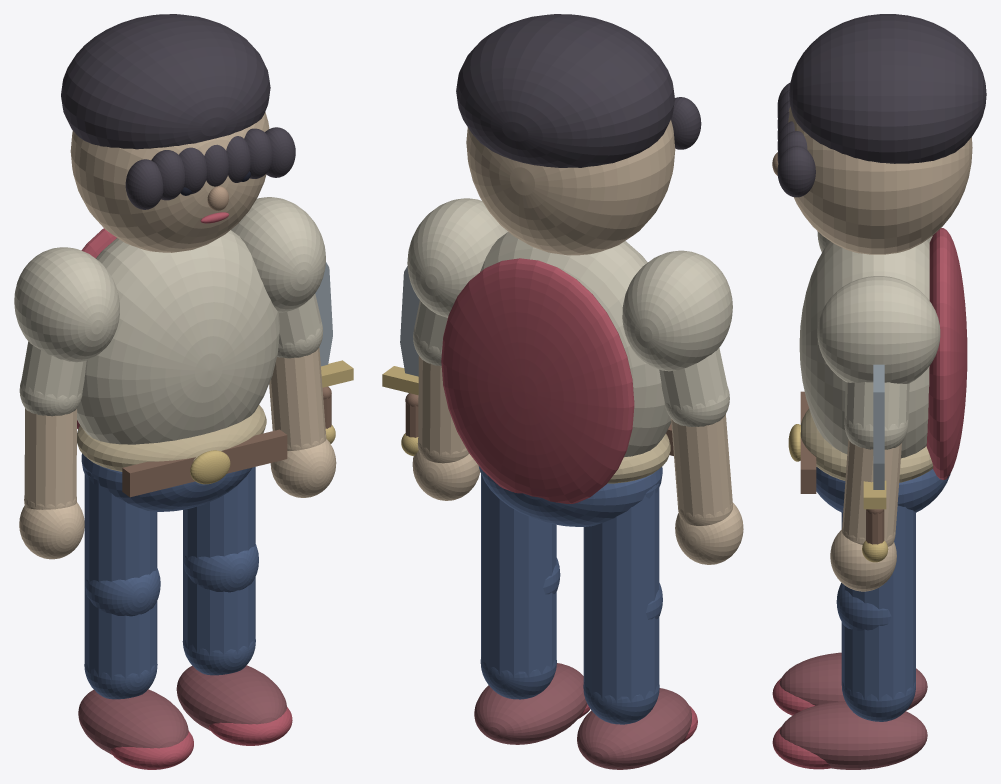
The model's file is character_hollow_knight.glb.
3 renders of one model, left to right at view 1: azimuth 30°, elevation 25°; view 2: azimuth 150°, elevation 25°; view 3: azimuth 270°, elevation 25°, orthographic. The views are drawn at different scales.
Parts seen in each view (by area): view 1: shirt_torso, hair_cap, head, trouser_-1_shaft, sleeve_-1, trouser_1_shaft, sleeve_1, boot_-1, boot_1, forearm_-1_shaft, forearm_1_shaft, shirt_hem (+24 smaller); view 2: short_cape, hair_cap, head, trouser_-1_shaft, trouser_1_shaft, sleeve_-1, shirt_torso, sleeve_1, boot_-1, boot_1, forearm_-1_shaft, pelvis (+12 smaller); view 3: hair_cap, head, sleeve_1, shirt_torso, trouser_1_shaft, short_cape, boot_1, forearm_1_shaft, boot_-1, hand_1, upper_arm_1_shaft, shirt_hem (+14 smaller).
Boxes of the visible parts, left/top/right/bottom form: shirt_torso: left=77, top=230, right=279, bottom=444; hair_cap: left=61, top=14, right=270, bottom=149; head: left=70, top=112, right=269, bottom=252; trouser_-1_shaft: left=84, top=471, right=157, bottom=679; sleeve_-1: left=14, top=247, right=119, bottom=362; trouser_1_shaft: left=183, top=467, right=255, bottom=655; sleeve_1: left=231, top=197, right=325, bottom=312; boot_-1: left=78, top=689, right=188, bottom=754; boot_1: left=176, top=665, right=286, bottom=730; forearm_-1_shaft: left=24, top=408, right=76, bottom=508; forearm_1_shaft: left=269, top=347, right=326, bottom=448; shirt_hem: left=77, top=405, right=266, bottom=471; short_cape: left=441, top=258, right=634, bottom=503; hair_cap: left=456, top=14, right=674, bottom=167; head: left=466, top=120, right=675, bottom=255; trouser_-1_shaft: left=583, top=485, right=659, bottom=702; trouser_1_shaft: left=481, top=474, right=556, bottom=677; sleeve_-1: left=622, top=250, right=732, bottom=371; shirt_torso: left=480, top=232, right=671, bottom=457; sleeve_1: left=407, top=198, right=508, bottom=317; boot_-1: left=577, top=688, right=691, bottom=769; boot_1: left=474, top=663, right=587, bottom=744; forearm_-1_shaft: left=671, top=414, right=732, bottom=518; pelvis: left=478, top=466, right=662, bottom=526; hair_cap: left=789, top=14, right=986, bottom=163; head: left=788, top=106, right=972, bottom=254; sleeve_1: left=817, top=276, right=940, bottom=383; shirt_torso: left=799, top=240, right=929, bottom=458; trouser_1_shaft: left=841, top=505, right=915, bottom=700; short_cape: left=926, top=228, right=967, bottom=480; boot_1: left=779, top=701, right=927, bottom=769; forearm_1_shaft: left=842, top=439, right=901, bottom=540; boot_-1: left=779, top=652, right=927, bottom=710; hand_1: left=830, top=529, right=896, bottom=591; upper_arm_1_shaft: left=844, top=382, right=909, bottom=429; shirt_hem: left=800, top=408, right=933, bottom=482.
Bounding box in the file's own units: 1.51 × 3.06 × 0.836.
